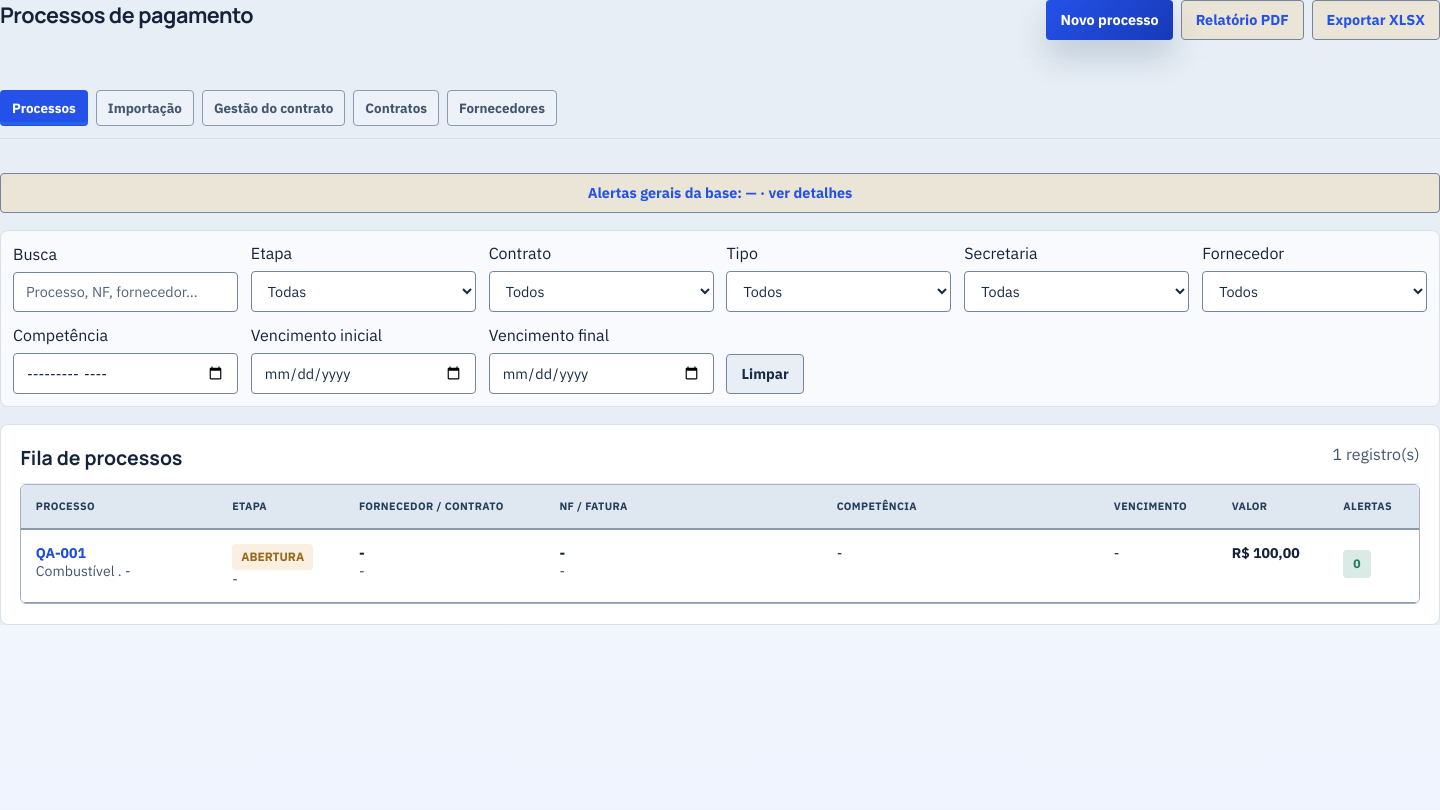
fecha a edição com Escape e mantém o painel do processo e o foco da ação
This screenshot has width=1440, height=810.
Click the button "QA-001".
click(61, 553)  # box [36, 544, 86, 562]
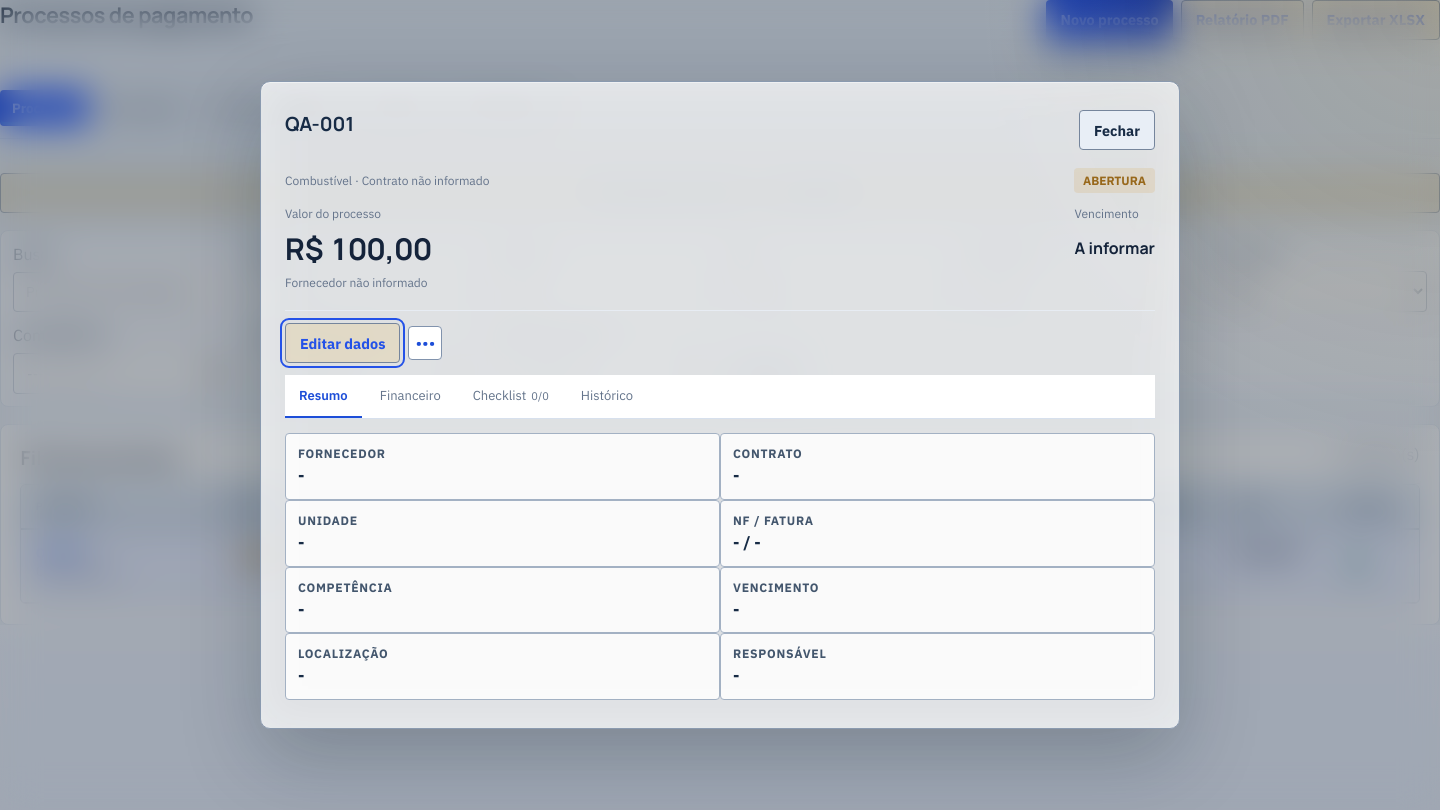
Click the button "Editar dados".
click(343, 343)  # box [285, 323, 400, 363]
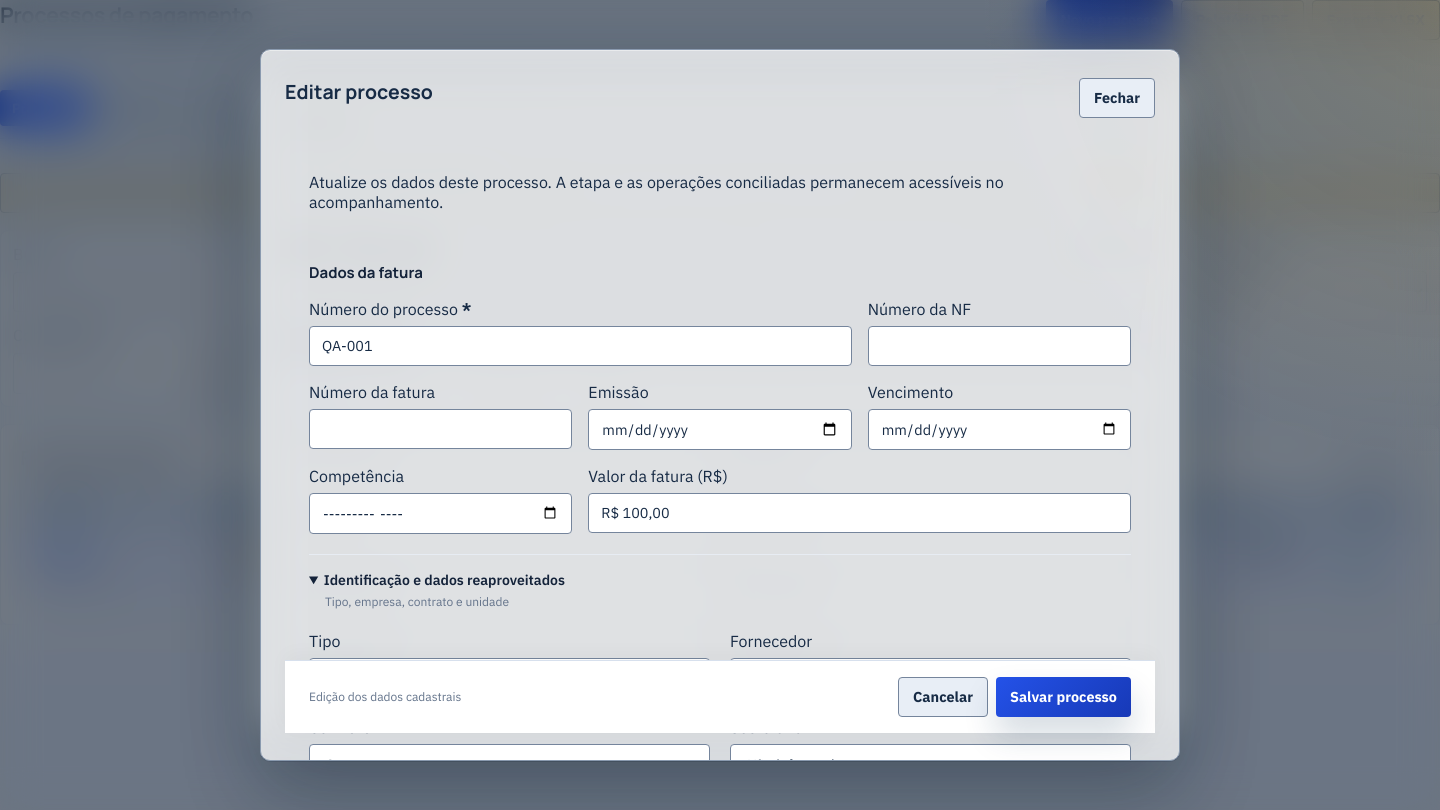
Now the dialog "Editar processo" is shown, box [260, 49, 1180, 761]
Press Escape
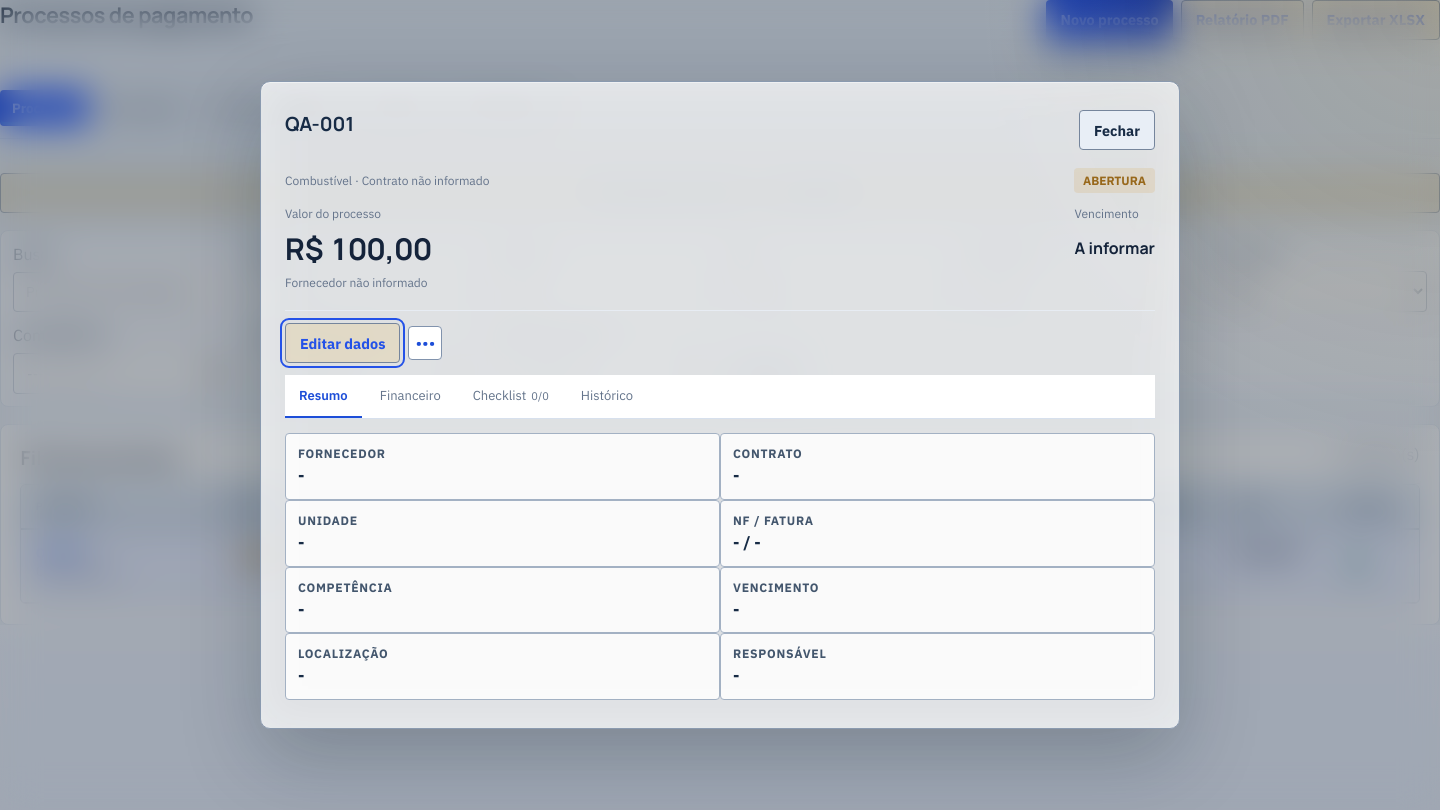
Now the dialog "QA-001" is shown, box [260, 81, 1180, 729]
Now the heading "Editar processo" is gone
